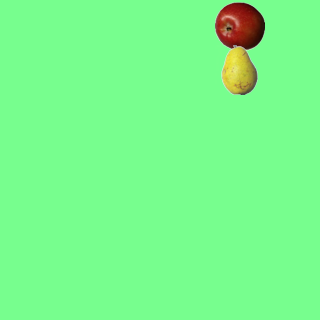Apple Braeburn: (214, 1, 264, 51)
Pear Monster: (214, 44, 264, 94)
